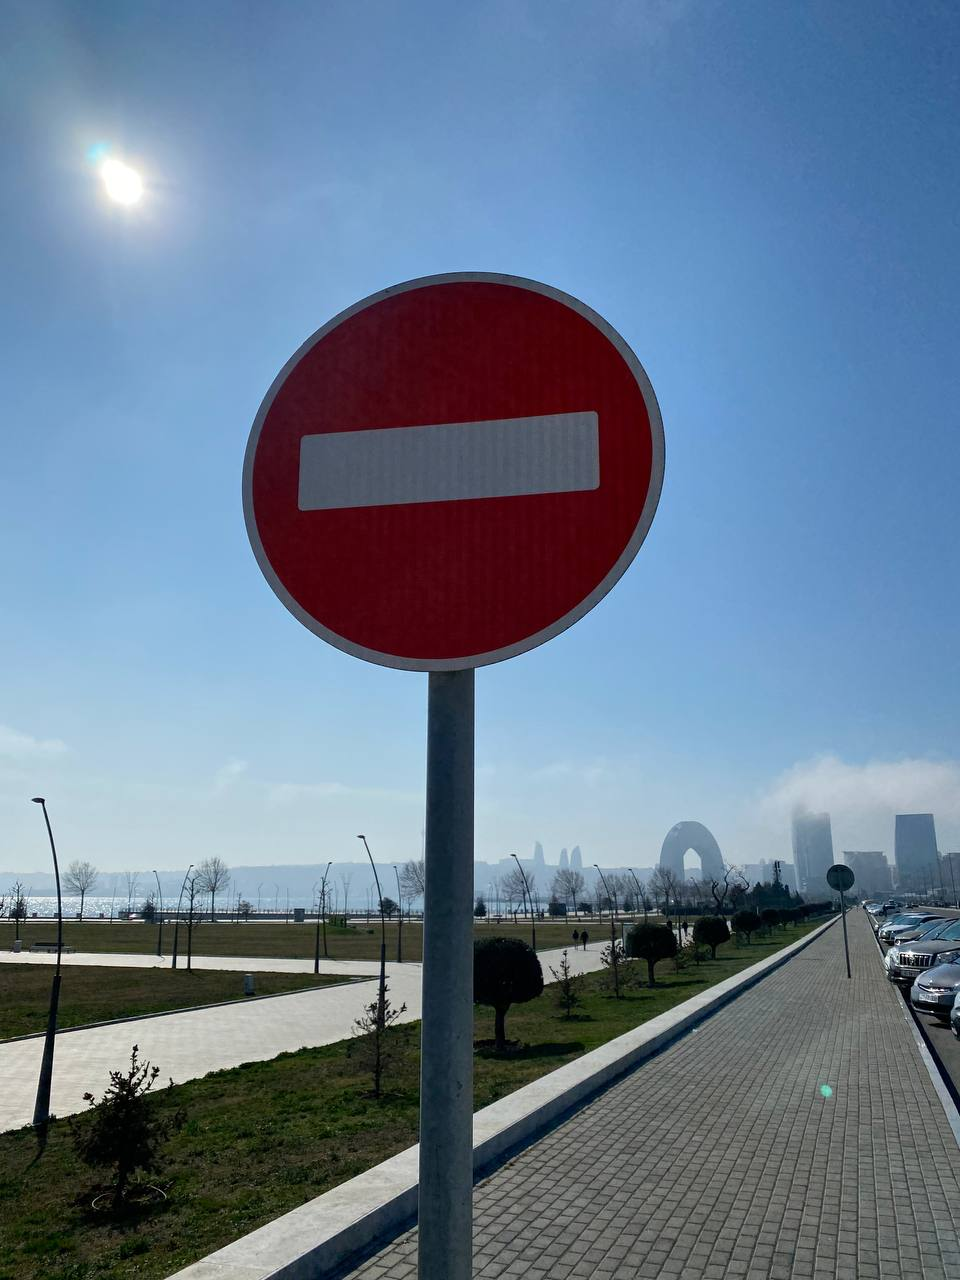No Entry: (241, 269, 670, 674)
